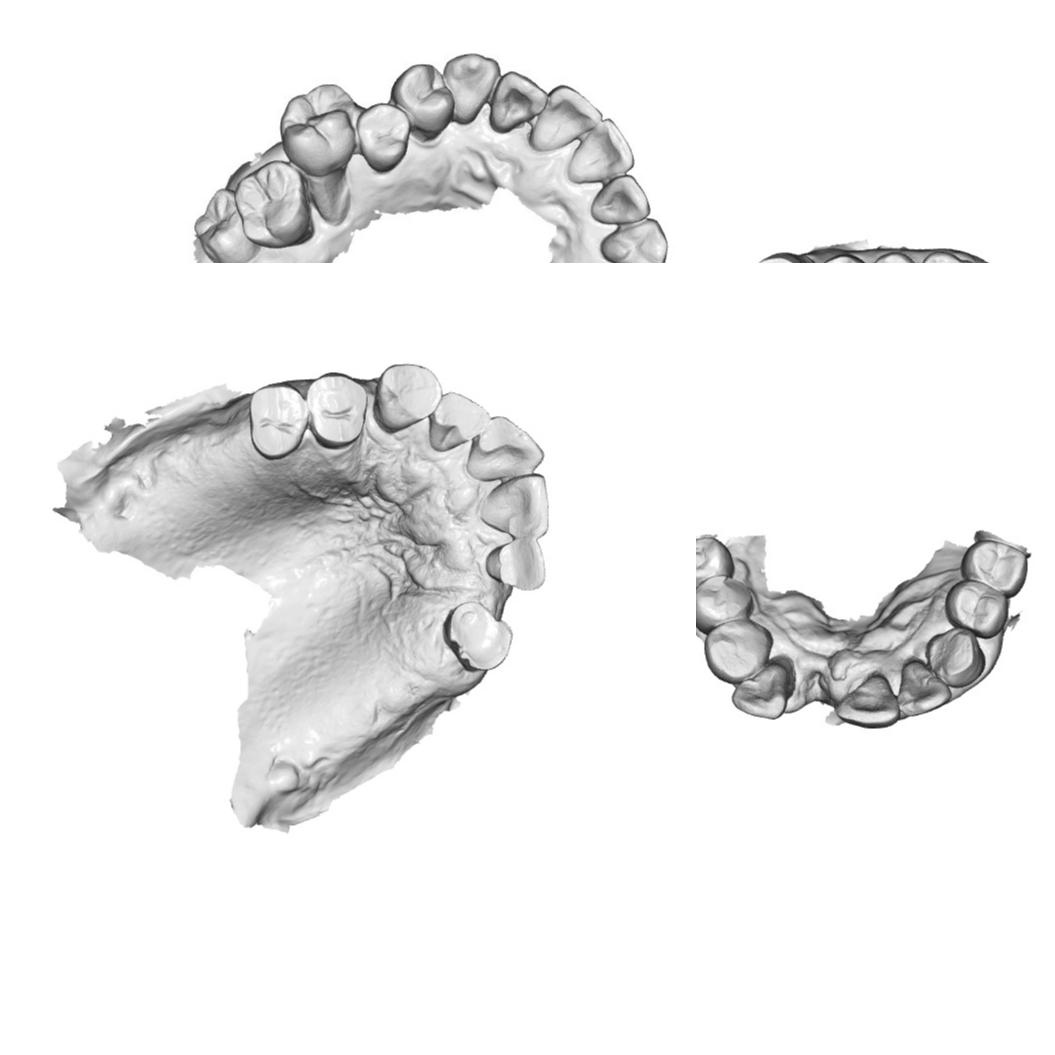canine: (372, 361, 443, 433), (730, 655, 792, 720), (924, 626, 986, 688), (444, 52, 496, 124), (599, 217, 670, 263), (754, 250, 817, 263)
incisor: (466, 412, 547, 483), (476, 474, 553, 542), (429, 389, 491, 455), (535, 85, 599, 147), (834, 672, 901, 730), (486, 537, 548, 594), (896, 656, 952, 718), (572, 120, 631, 177), (493, 73, 547, 123), (592, 181, 653, 222)
molar: (282, 87, 353, 173), (239, 167, 309, 238), (198, 194, 252, 261), (696, 535, 735, 600)
premolar: (442, 599, 513, 674), (703, 617, 774, 686), (247, 382, 308, 461), (307, 371, 368, 450), (392, 60, 454, 137), (350, 99, 409, 171), (960, 538, 1028, 599), (944, 578, 1008, 640), (696, 573, 754, 636)
